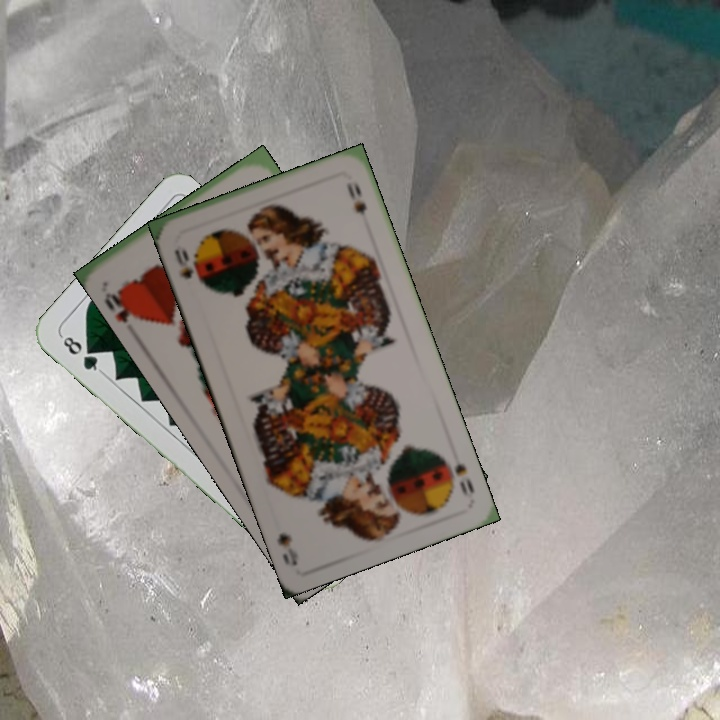G8: (57, 330, 105, 375)
HO: (100, 285, 146, 326)
SO: (450, 459, 477, 502), (170, 245, 196, 282)
